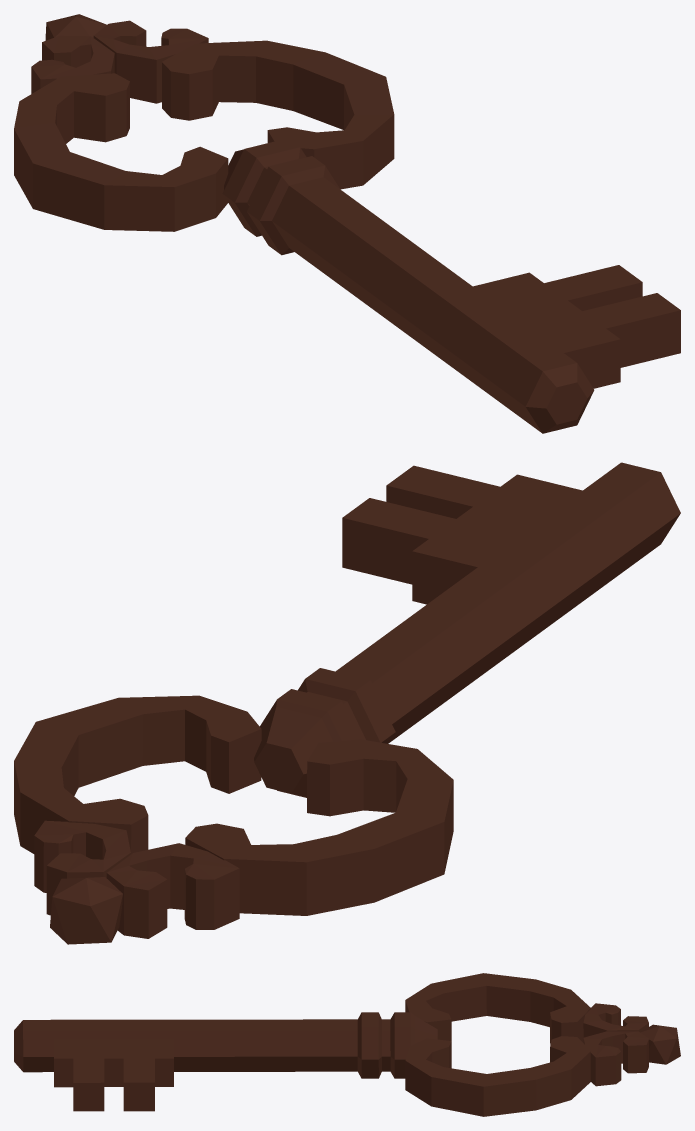
File: key2.glb
The picture shows the model from 3 angles, top to bottom: view 1: azimuth 30°, elevation 25°; view 2: azimuth 150°, elevation 25°; view 3: azimuth 270°, elevation 25°; orthographic projection. The views are drawn at different scales.
Visible parts, largest first — view 1: Key2; view 2: Key2; view 3: Key2.
Part boxes in pixels (x1,y1,x2,y2): Key2: [14, 14, 680, 433]; Key2: [14, 462, 680, 944]; Key2: [14, 973, 680, 1116].
Size of the model in its own units: 40.1 by 8.59 by 99.28.
